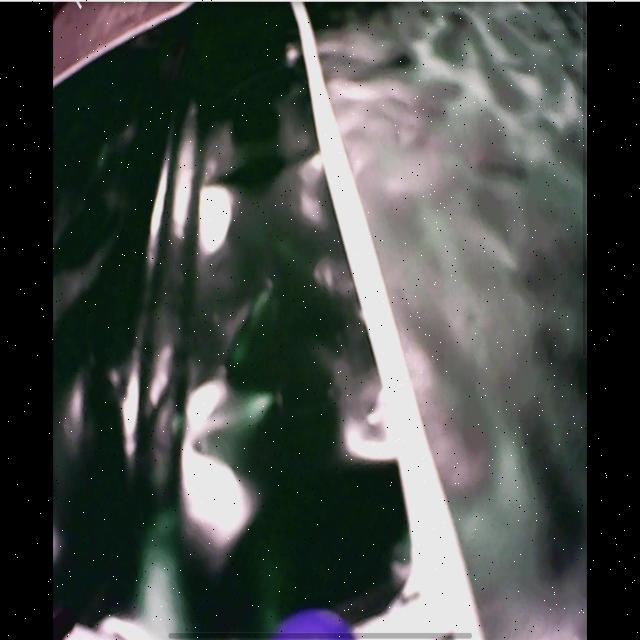ball: (278, 610, 355, 640)
